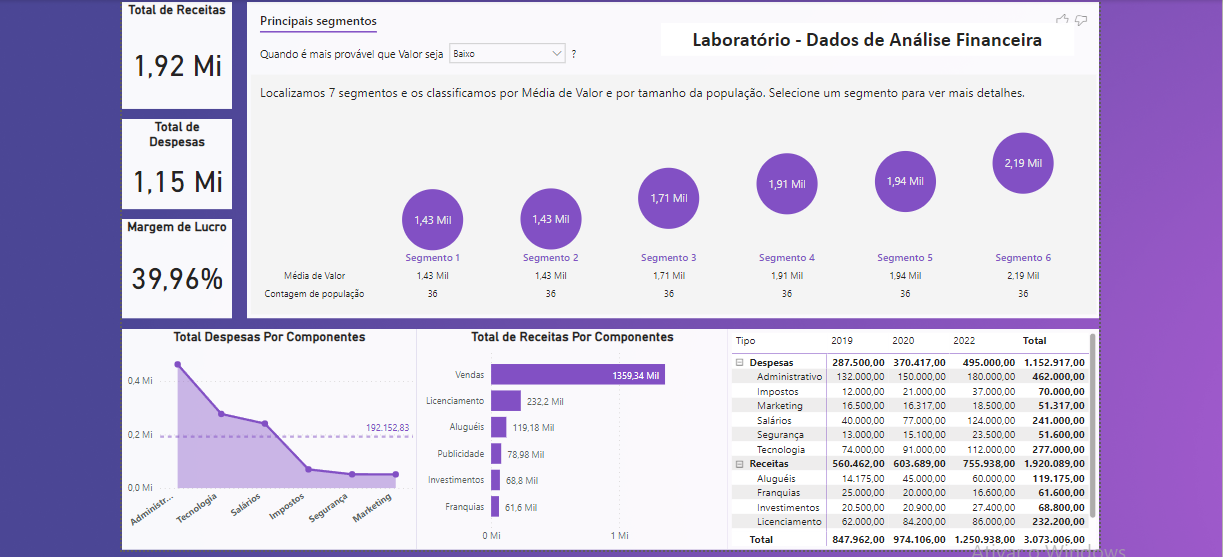

The page's visual inventory and layout, read from the dashboard file:
{"tool":"powerbi","page":{"name":"Página 1","canvas":[1280,720],"ordinal":0},"visuals":[{"type":"card","title":"Total de Receitas","fields":{"Values":["IndicadoresFianaceiros.TotalReceitas"]},"box":[0,2.6,144,140.1],"z":0},{"type":"card","title":"Total de Despesas","fields":{"Values":["IndicadoresFianaceiros.TotalDespesas"]},"box":[0,155.4,144.4,118.2],"z":1000},{"type":"card","title":"Margem de Lucro","fields":{"Values":["IndicadoresFianaceiros.MargemLucro"]},"box":[0,286.7,144,129.6],"z":2000},{"type":"clusteredBarChart","title":"Total de Receitas Por Componentes","fields":{"Category":["DadosFinanceiros.Componente"],"Y":["IndicadoresFianaceiros.TotalReceitas"]},"box":[386.2,430.7,407.1,289.3],"z":3000},{"type":"areaChart","title":"Total Despesas Por Componentes","fields":{"Category":["DadosFinanceiros.Componente"],"Y":["IndicadoresFianaceiros.TotalDespesas"]},"box":[0,430.7,386.2,289.3],"z":4000},{"type":"pivotTable","fields":{"Rows":["DadosFinanceiros.Tipo","DadosFinanceiros.Componente"],"Values":["Sum(DadosFinanceiros.Valor)"],"Columns":["DadosFinanceiros.Data.Variation.Hierarquia de datas.Ano"]},"box":[793.3,430.7,487,289.3],"z":5000},{"type":"keyDriversVisual","fields":{"Target":["DadosFinanceiros.Valor"],"ExplainBy":["DadosFinanceiros.Tipo","DadosFinanceiros.Componente"]},"box":[163.6,2.6,1116.7,413.7],"z":6000},{"type":"textbox","box":[705.6,30.1,540.7,43.2],"z":7000}]}

Visuals, with their boxes in screenshot pixels (x1, y1, x2, y2):
"Total de Receitas" card: [left=118, top=0, right=228, bottom=106]
"Total de Despesas" card: [left=118, top=115, right=228, bottom=206]
"Margem de Lucro" card: [left=118, top=216, right=228, bottom=315]
"Total de Receitas Por Componentes" clusteredBarChart: [left=413, top=326, right=723, bottom=546]
"Total Despesas Por Componentes" areaChart: [left=118, top=326, right=413, bottom=546]
pivotTable - DadosFinanceiros.Tipo x DadosFinanceiros.Componente: [left=723, top=326, right=1095, bottom=546]
keyDriversVisual - DadosFinanceiros.Valor x DadosFinanceiros.Tipo: [left=243, top=0, right=1095, bottom=315]
textbox: [left=657, top=20, right=1069, bottom=53]
